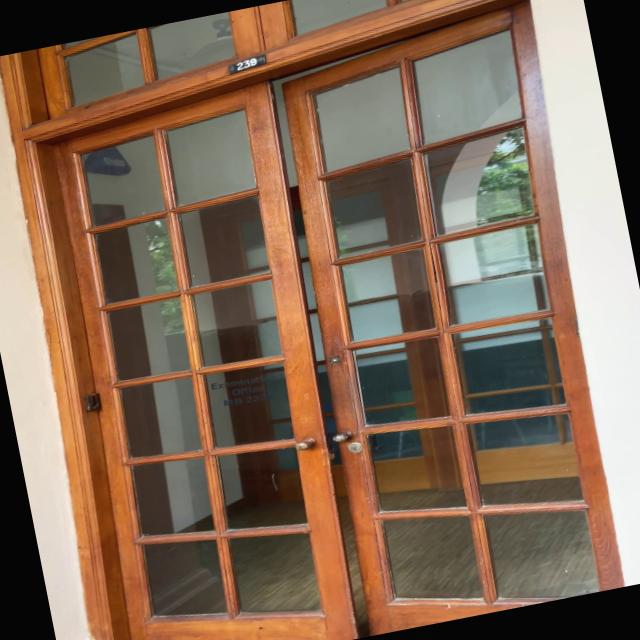room239: (226, 52, 271, 77)
